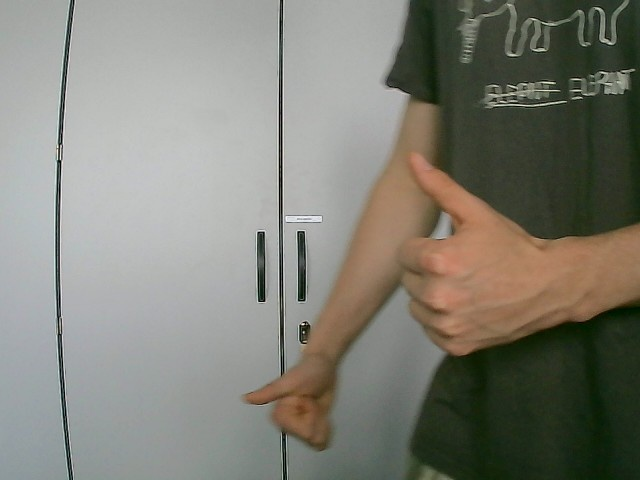no_gesture: (236, 355, 337, 454)
up: (395, 151, 576, 358)
